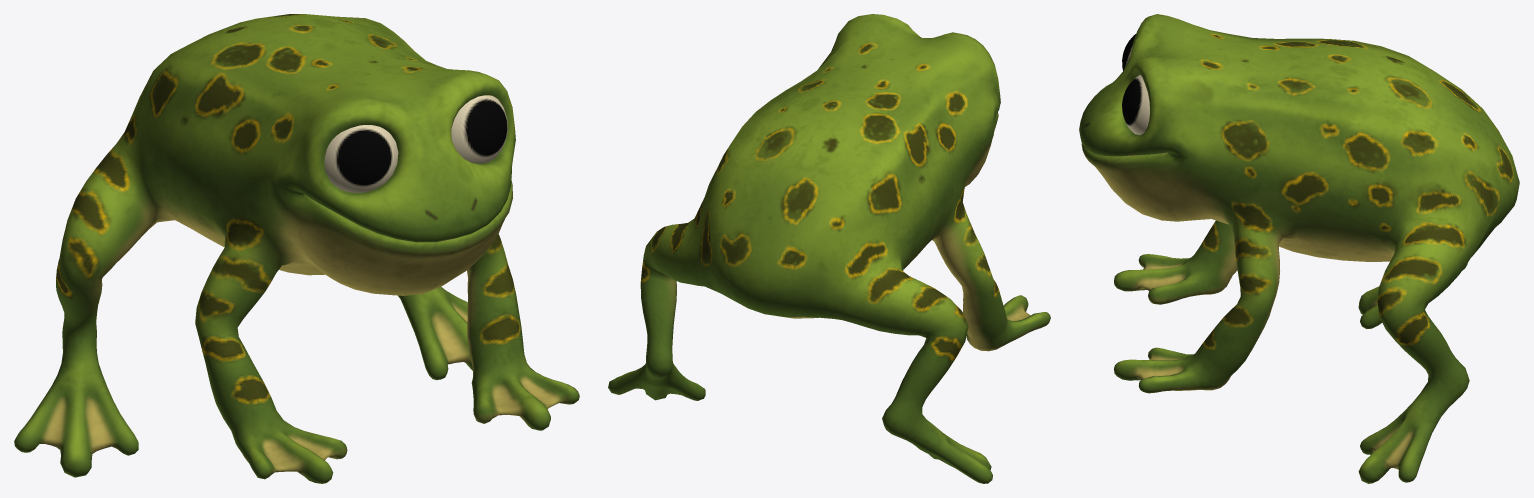
3 views of the same model, side by side, from view 1: azimuth 30°, elevation 25°; view 2: azimuth 150°, elevation 25°; view 3: azimuth 270°, elevation 25° (orthographic). The views are drawn at different scales.
Parts seen in each view (by area): view 1: Object_4; view 2: Object_4; view 3: Object_4.
Part boxes in pixels (<box>): Object_4: <box>14,14,579,483</box>; Object_4: <box>608,14,1050,483</box>; Object_4: <box>1079,14,1519,483</box>.
Size of the model in its own units: 1.16 by 0.9721 by 1.08.
1 material, 1 textured.
